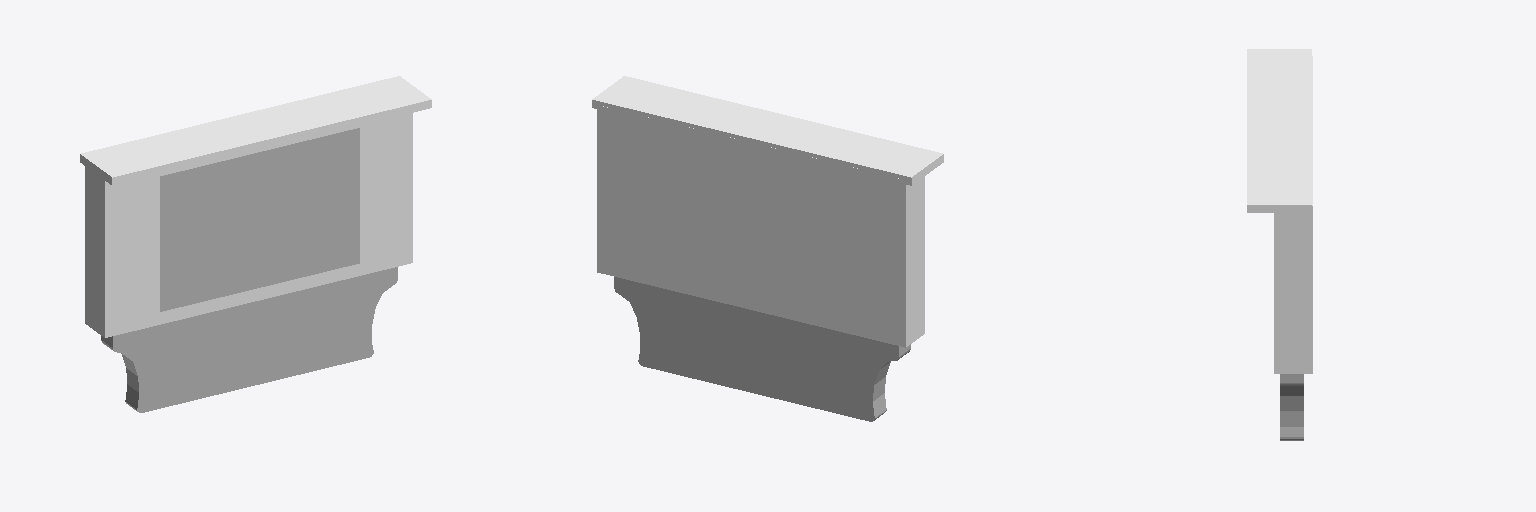
File: affiche3.obj
The picture shows the model from 3 angles: view 1: azimuth 30°, elevation 25°; view 2: azimuth 150°, elevation 25°; view 3: azimuth 270°, elevation 25°; orthographic projection.
Visible parts, largest first — view 1: affiche3, Cube.1, Couvercle_1, Cube, Peau; view 2: Cube.1, Couvercle_2, Cube, Peau; view 3: Cube, Cube.1, Peau.
Boxes of the visible parts, x1=… form: affiche3: x1=160, y1=128, x2=359, y2=311; Cube.1: x1=85, y1=113, x2=412, y2=337; Couvercle_1: x1=113, y1=267, x2=397, y2=412; Cube: x1=80, y1=76, x2=431, y2=185; Peau: x1=101, y1=336, x2=138, y2=411; Cube.1: x1=597, y1=105, x2=924, y2=347; Couvercle_2: x1=614, y1=277, x2=898, y2=421; Cube: x1=592, y1=76, x2=943, y2=185; Peau: x1=873, y1=344, x2=910, y2=420; Cube: x1=1247, y1=49, x2=1311, y2=212; Cube.1: x1=1274, y1=56, x2=1312, y2=373; Peau: x1=1280, y1=374, x2=1303, y2=440.
Size of the model in its own units: 827 by 639 by 146.